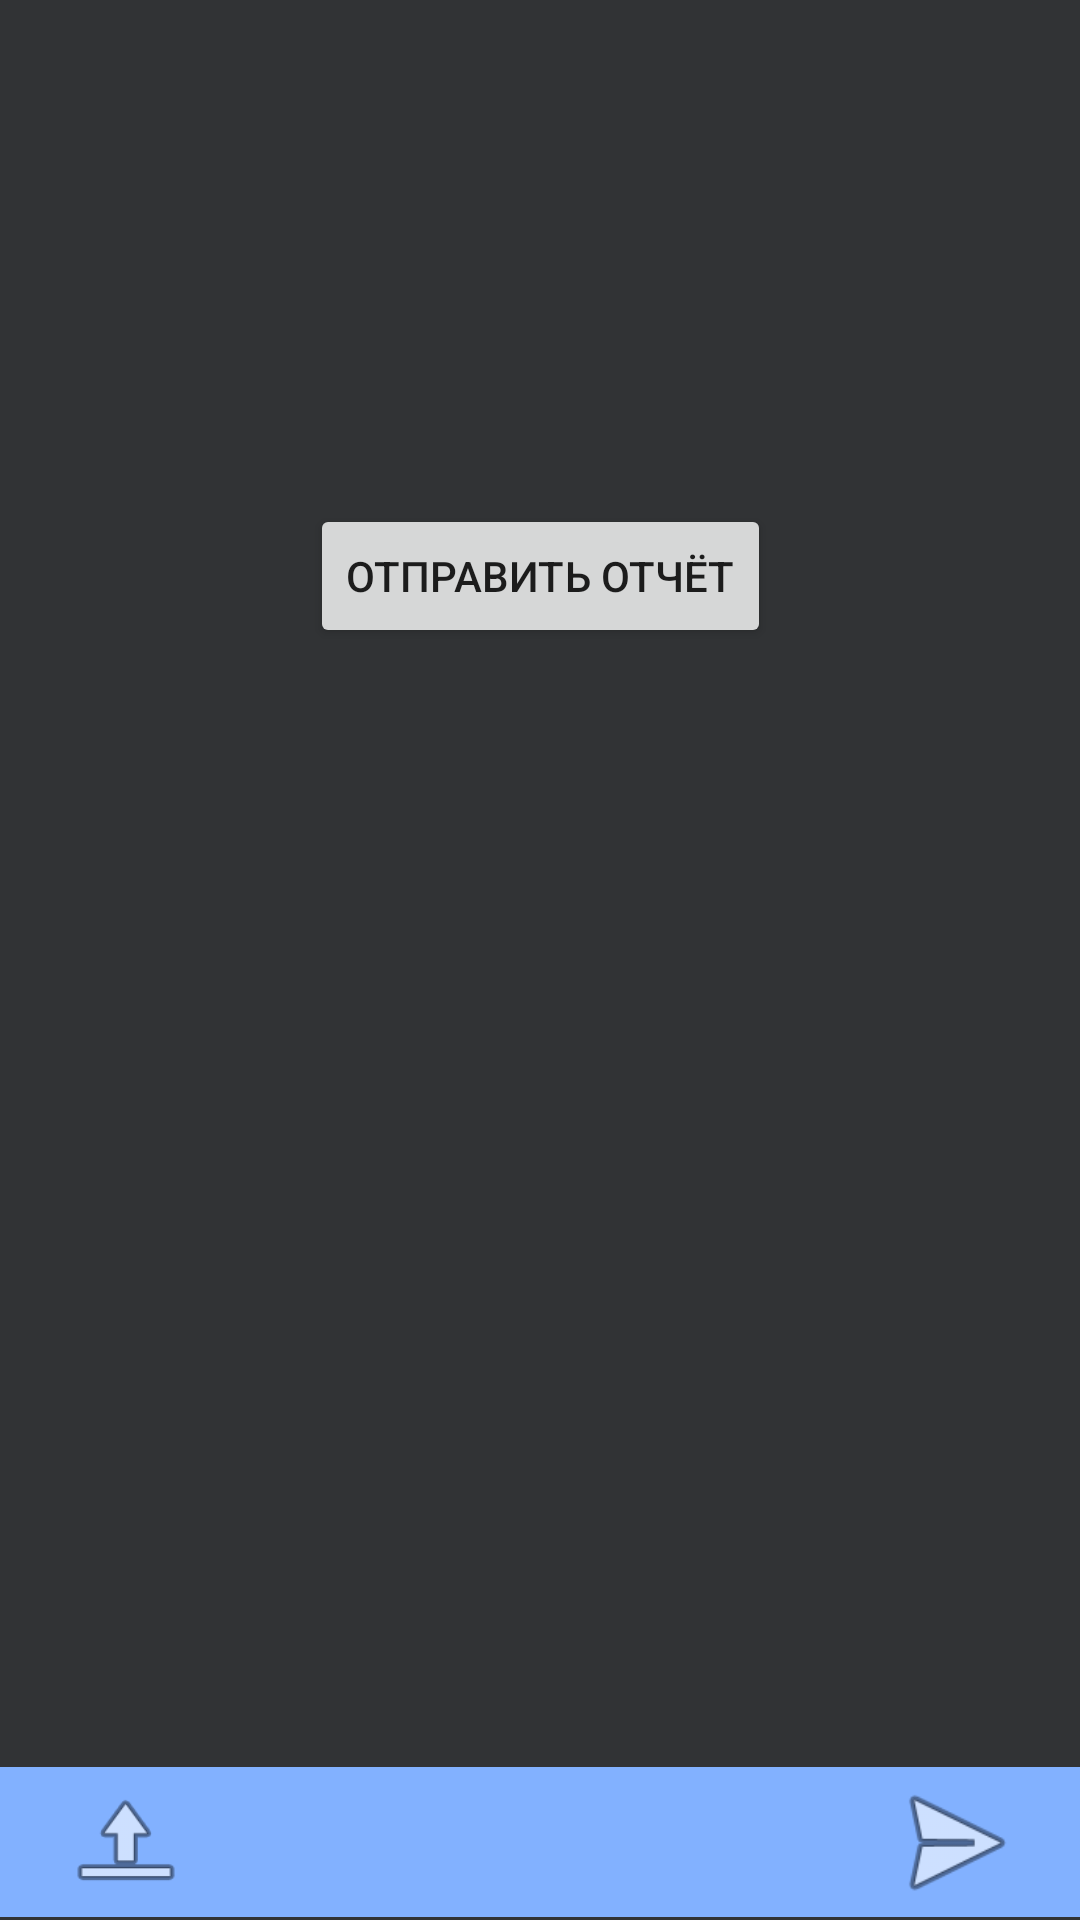

Icon click points for this 1080px×1920px phone screenshot, format (x,y):
send: (957,1842)
upload: (126,1840)
